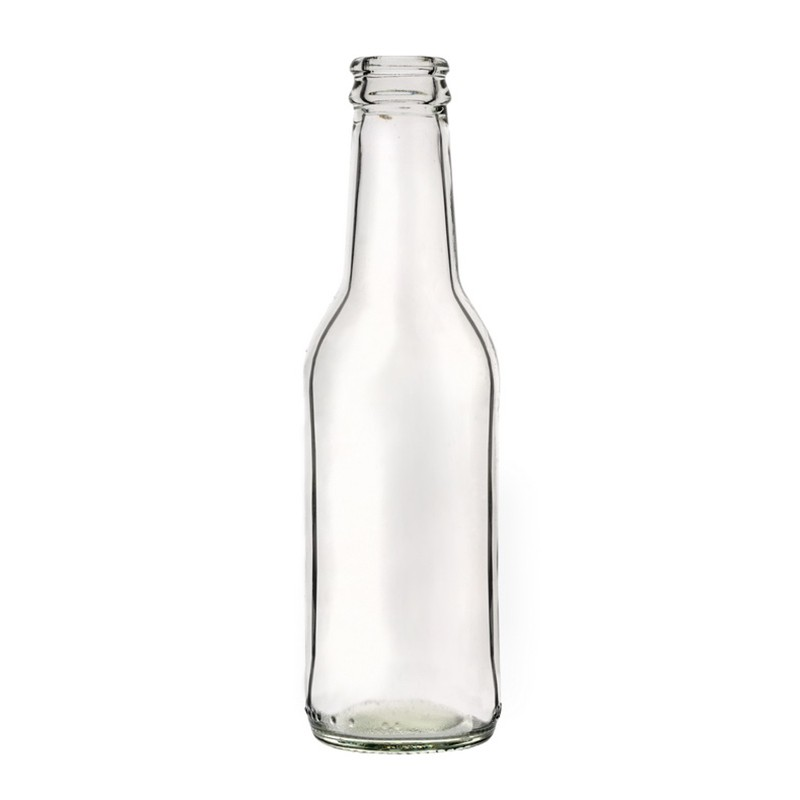glass_bottle: (298, 45, 504, 757)
